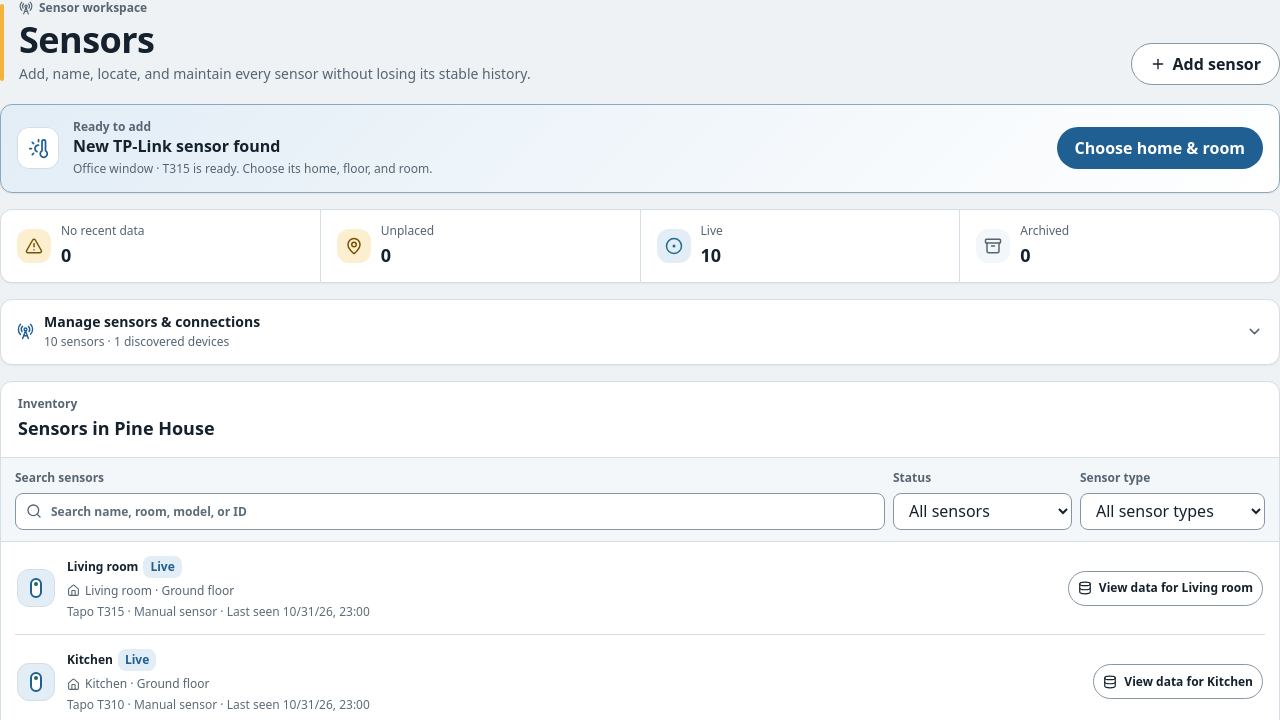
sensor inventory filters › filters sensors by model as a sensor type
Select "Tapo T315" in the dropdown labelled "Sensor type": (1172, 511) 1080,493 -> 1265,530
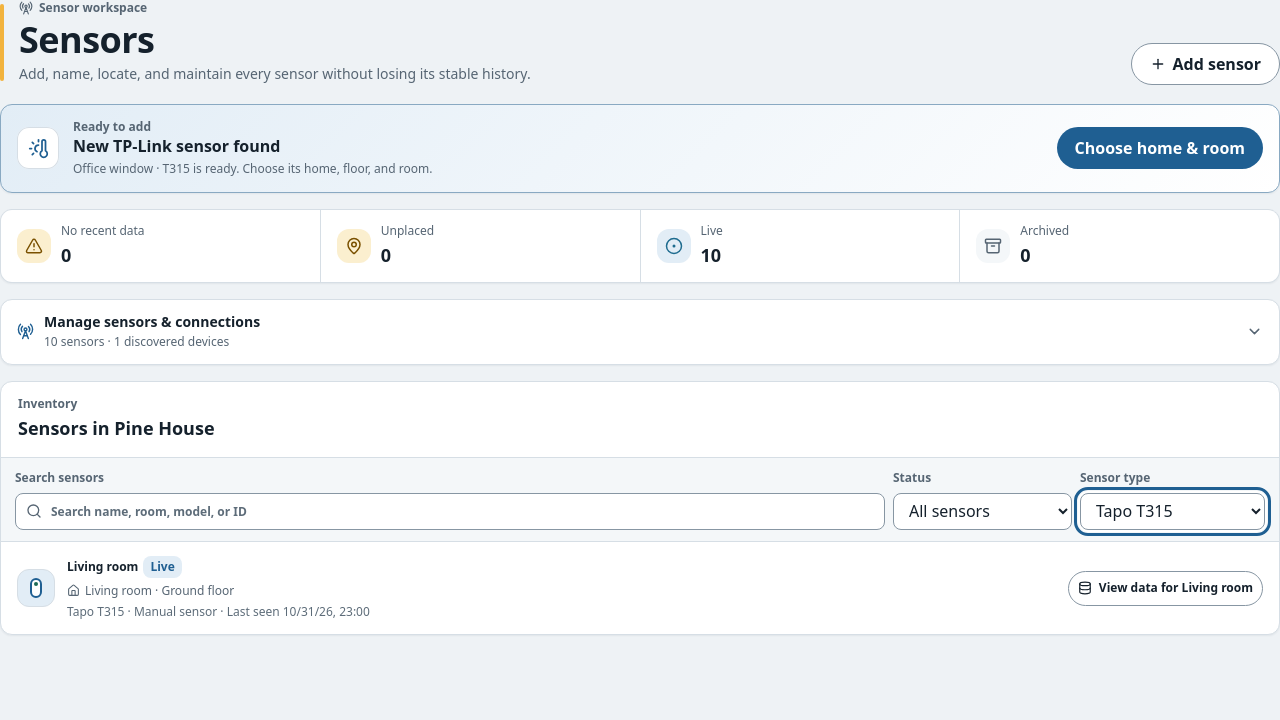
Check: the button "View data for Living room" is shown, box 1068,570 -> 1263,606
Check: the button "View data for Kitchen" is gone
Select "All sensor types" in the dropdown labelled "Sensor type": (1172, 511) 1080,493 -> 1265,530
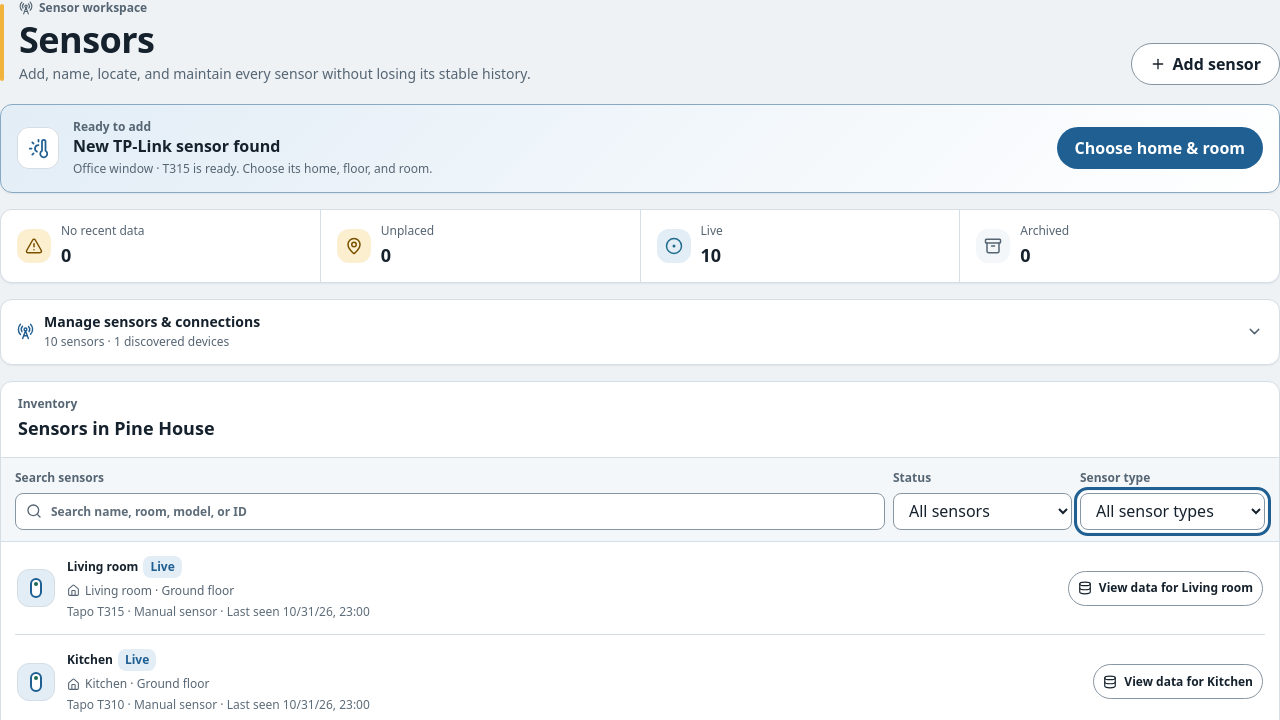
Check: the button "View data for Kitchen" is shown, box 1093,664 -> 1263,699
